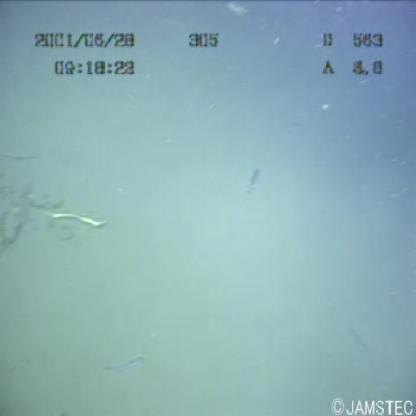Rác: (1, 147, 96, 305)
